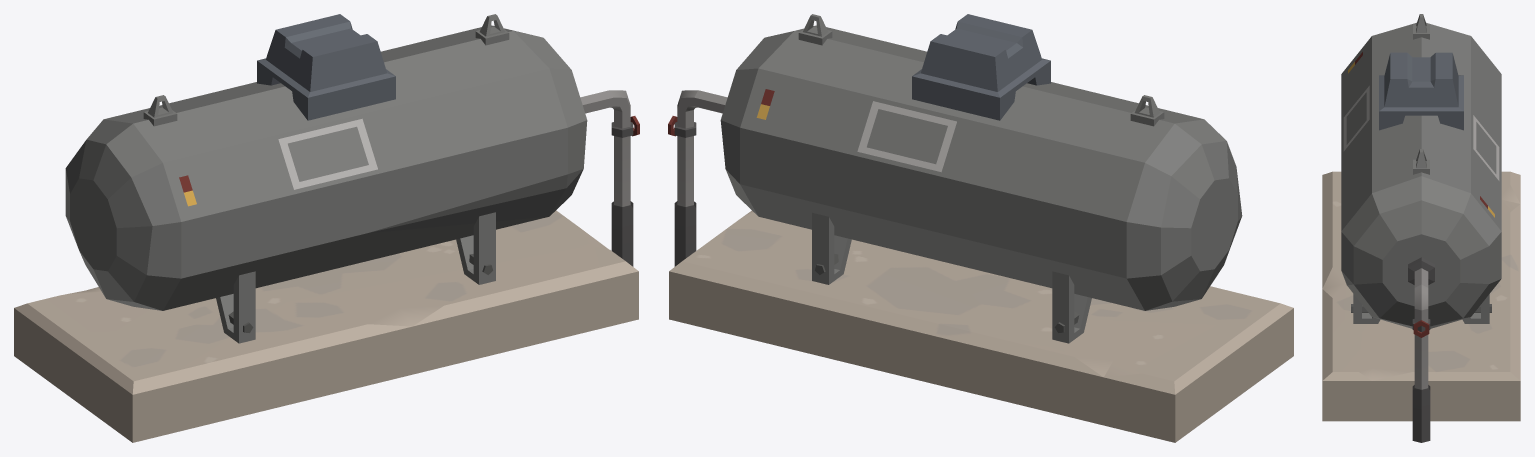
File: SM_Prop_Gastank_01.fbx
3 views of the same model, side by side, from view 1: azimuth 30°, elevation 25°; view 2: azimuth 150°, elevation 25°; view 3: azimuth 270°, elevation 25° (orthographic). The views are drawn at different scales.
Parts seen in each view (by area): view 1: SM_Prop_Gastank_01, SM_Prop_Gastank_Base_01; view 2: SM_Prop_Gastank_01, SM_Prop_Gastank_Base_01; view 3: SM_Prop_Gastank_01, SM_Prop_Gastank_Base_01.
Boxes of the visible parts, box(x1,y1,x2,y2) form: SM_Prop_Gastank_01: box(65, 14, 639, 343); SM_Prop_Gastank_Base_01: box(14, 210, 638, 442); SM_Prop_Gastank_01: box(668, 14, 1242, 343); SM_Prop_Gastank_Base_01: box(669, 210, 1293, 442); SM_Prop_Gastank_01: box(1341, 14, 1501, 442); SM_Prop_Gastank_Base_01: box(1322, 171, 1520, 421).
Bounding box in the file's own units: 665 × 342 × 243.
